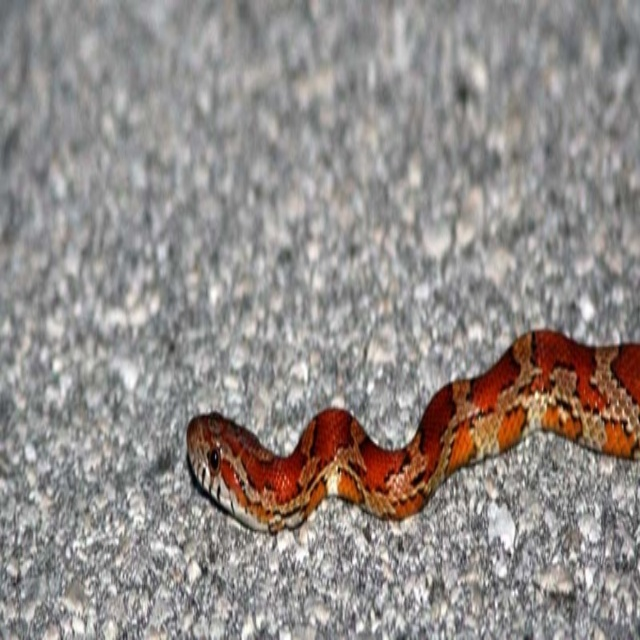Snake: (184, 324, 639, 523)
